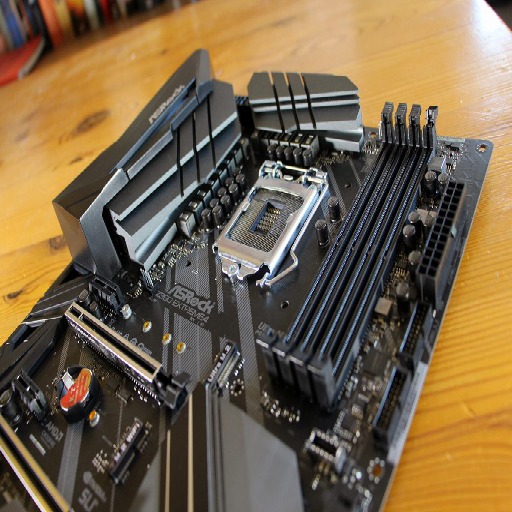CPU: (210, 158, 331, 288)
GPU: (63, 298, 191, 412)
MOTHERBOARD: (1, 67, 495, 511)
RAM: (252, 101, 440, 412)
SSD: (101, 416, 154, 485), (201, 338, 245, 395)
